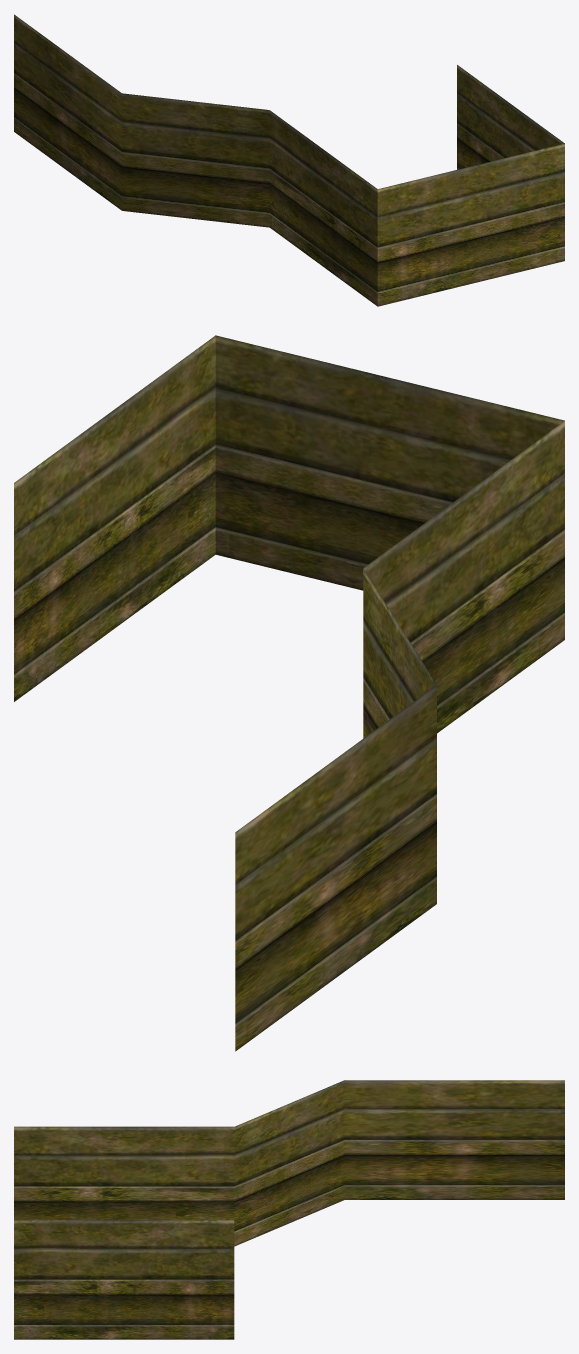
File: OVERHILL_A_01_LINE378.fbx
3 renders of one model, top to bottom at view 1: azimuth 30°, elevation 25°; view 2: azimuth 150°, elevation 25°; view 3: azimuth 270°, elevation 25°, orthographic. The views are drawn at different scales.
Parts seen in each view (by area): view 1: OVERHILL_A_01_LINE378; view 2: OVERHILL_A_01_LINE378; view 3: OVERHILL_A_01_LINE378.
Part boxes in pixels (bbox=[...]): OVERHILL_A_01_LINE378: bbox=[14, 14, 564, 306]; OVERHILL_A_01_LINE378: bbox=[14, 335, 564, 1051]; OVERHILL_A_01_LINE378: bbox=[14, 1080, 564, 1339].
Size of the model in its own units: 30000 by 12000 by 50000.
2 materials, 2 textured.
